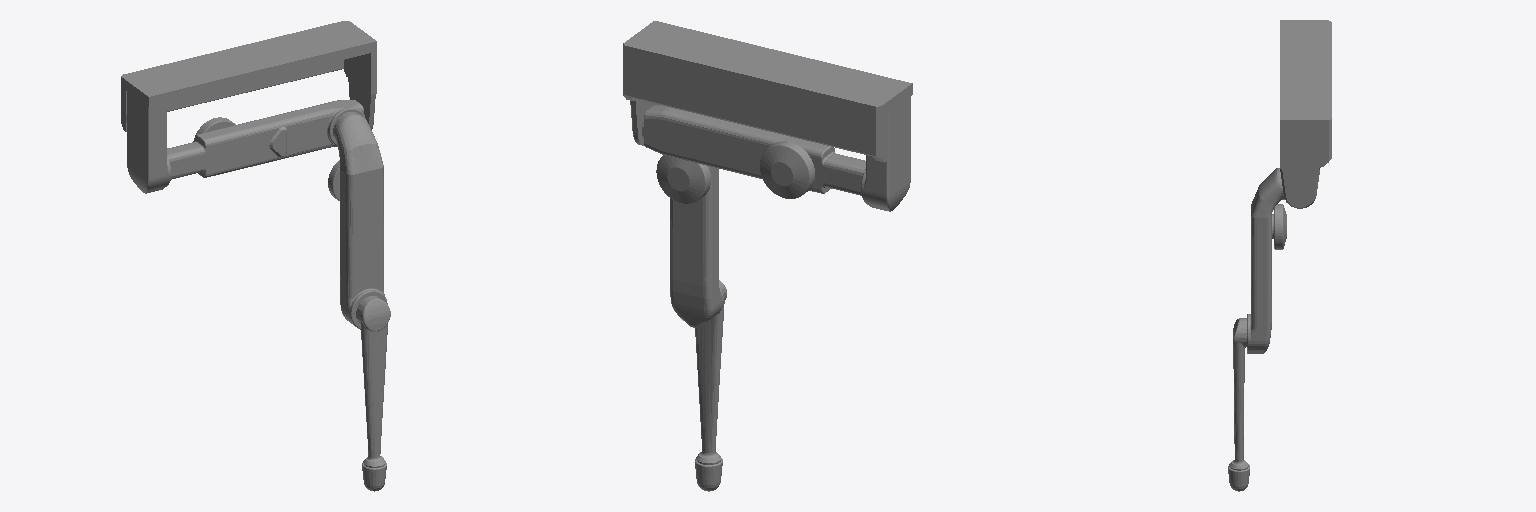
robot.urdf — fingeredu:
<?xml version="1.0" ?>
<!-- =================================================================================== -->
<!-- |    This document was autogenerated by xacro from robot_properties_fingers/xacro/edu/fingeredu.urdf.xacro | -->
<!-- |    EDITING THIS FILE BY HAND IS NOT RECOMMENDED                                 | -->
<!-- =================================================================================== -->
<robot name="fingeredu">
  <!--
    Frames are defined such that they all align with the base frame when all
    joints are at position zero.

    In zero-configuration the origins of all joints are in one line.

    In zero-configuration the origin of the base link is exactly above the
    finger tip which should make it easy to place the finger in the world.
    -->
  <!--
    Frames are defined such that they all align with the base frame when all
    joints are at position zero.

    In zero-configuration the origins of all joints are in one line.
    -->
  <material name="fingeredu_material">
    <color rgba="0.6 0.6 0.6 1.0"/>
  </material>
  <!--
        Fixed links for the finger base (parts where the upper link is mounted).
        -->
  <link name="finger_base_link">
    <visual>
      <origin rpy="0 0 0" xyz="-0.17995 0 0"/>
      <geometry>
        <mesh filename="package://robot_properties_fingers/meshes/edu/base_back.obj" scale="1 1 1"/>
      </geometry>
      <material name="fingeredu_material"/>
    </visual>
    <collision>
      <origin rpy="0 0 0" xyz="-0.17995 0 0"/>
      <geometry>
        <mesh filename="package://robot_properties_fingers/meshes/edu/base_back.obj" scale="1 1 1"/>
      </geometry>
    </collision>
    <visual>
      <origin rpy="0 0 0" xyz="0.025500000000000002 0 0"/>
      <geometry>
        <mesh filename="package://robot_properties_fingers/meshes/edu/base_front.obj" scale="1 1 1"/>
      </geometry>
      <material name="fingeredu_material"/>
    </visual>
    <collision>
      <origin rpy="0 0 0" xyz="0.025500000000000002 0 0"/>
      <geometry>
        <mesh filename="package://robot_properties_fingers/meshes/edu/base_front.obj" scale="1 1 1"/>
      </geometry>
    </collision>
    <visual>
      <origin rpy="0 0 0" xyz="0.025500000000000002 0.02 0.08"/>
      <geometry>
        <mesh filename="package://robot_properties_fingers/meshes/edu/base_side_left.obj" scale="1 1 1"/>
      </geometry>
      <material name="fingeredu_material"/>
    </visual>
    <collision>
      <origin rpy="0 0 0" xyz="0.025500000000000002 0.02 0.08"/>
      <geometry>
        <mesh filename="package://robot_properties_fingers/meshes/edu/base_side_left.obj" scale="1 1 1"/>
      </geometry>
    </collision>
    <!-- Disable this part.  It is not very relevant for collisions but
                 would cause trouble in pybullet due to its concavity.
            <xacro:add_geometry
                rpy="0 0 0"
                xyz="${offset_x_base_to_front} -0.02 ${offset_z_base_to_top}"
                mesh_file="${mesh_dir}/base_side_right.obj"
                material="${material}" />
            -->
    <visual>
      <origin rpy="0 0 0" xyz="0.025500000000000002 0 0.08"/>
      <geometry>
        <mesh filename="package://robot_properties_fingers/meshes/edu/base_top.obj" scale="1 1 1"/>
      </geometry>
      <material name="fingeredu_material"/>
    </visual>
    <collision>
      <origin rpy="0 0 0" xyz="0.025500000000000002 0 0.08"/>
      <geometry>
        <mesh filename="package://robot_properties_fingers/meshes/edu/base_top.obj" scale="1 1 1"/>
      </geometry>
    </collision>
    <inertial>
      <origin rpy="0 0 0" xyz="-0.1 0 0.4"/>
      <mass value="1"/>
      <inertia ixx="0.060833333333333336" ixy="0" ixz="0" iyy="0.05666666666666668" iyz="0" izz="0.010833333333333334"/>
    </inertial>
  </link>
  <!-- The movable links (upper, middle and lower) of the finger. -->
  <!-- FIXME inertias are not correct! -->
  <link name="finger_upper_link">
    <visual>
      <origin rpy="0 0 0" xyz="0.0195 0 0"/>
      <geometry>
        <mesh filename="package://robot_properties_fingers/meshes/edu/upper_link.obj" scale="1 1 1"/>
      </geometry>
      <material name="fingeredu_material"/>
    </visual>
    <collision>
      <origin rpy="0 0 0" xyz="0.0195 0 0"/>
      <geometry>
        <mesh filename="package://robot_properties_fingers/meshes/edu/upper_link.obj" scale="1 1 1"/>
      </geometry>
    </collision>
    <inertial>
      <!-- Note: This uses the values from the middle link, assuming
                     that it is similar enough. -->
      <!-- CoM is only estimated based -->
      <origin rpy="0 0 0" xyz="-0.079 0 0"/>
      <mass value="0.14854"/>
      <inertia ixx="0.00003" ixy="0.00005" ixz="0.00000" iyy="0.00041" iyz="0.00000" izz="0.00041"/>
    </inertial>
  </link>
  <link name="finger_middle_link">
    <visual>
      <origin rpy="0 0 0" xyz="0 0 0"/>
      <geometry>
        <mesh filename="package://robot_properties_fingers/meshes/edu/middle_link.obj" scale="1 1 1"/>
      </geometry>
      <material name="fingeredu_material"/>
    </visual>
    <collision>
      <origin rpy="0 0 0" xyz="0 0 0"/>
      <geometry>
        <mesh filename="package://robot_properties_fingers/meshes/edu/middle_link.obj" scale="1 1 1"/>
      </geometry>
    </collision>
    <inertial>
      <origin rpy="0 0 0" xyz="0 -0.019 -0.079"/>
      <mass value="0.14854"/>
      <inertia ixx="0.00041" ixy="0.00000" ixz="0.00000" iyy="0.00041" iyz="0.00005" izz="0.00003"/>
    </inertial>
  </link>
  <link name="finger_lower_link">
    <visual>
      <origin rpy="0 0 0" xyz="0 0 0"/>
      <geometry>
        <mesh filename="package://robot_properties_fingers/meshes/edu/lower_link.obj" scale="1 1 1"/>
      </geometry>
      <material name="fingeredu_material"/>
    </visual>
    <collision>
      <origin rpy="0 0 0" xyz="0 0 0"/>
      <geometry>
        <mesh filename="package://robot_properties_fingers/meshes/edu/lower_link.obj" scale="1 1 1"/>
      </geometry>
    </collision>
    <!-- TODO: these are the interial values from the Solo lower leg
                 link which is similar but not exactly the same to the FingerEdu
                 lower link. -->
    <inertial>
      <origin rpy="0 0 0" xyz="0 -0.009 -0.089"/>
      <mass value="0.03070"/>
      <inertia ixx="0.00012" ixy="0.00000" ixz="0.00000" iyy="0.00012" iyz="0.00000" izz="0.00000"/>
    </inertial>
  </link>
  <!-- fixed link for finger tip -->
  <link name="finger_tip_link">
    <inertial>
      <origin rpy="0 0 0" xyz="0 0 0"/>
      <mass value="0.01"/>
      <inertia ixx="1.6666666666666668e-07" ixy="0" ixz="0" iyy="1.6666666666666668e-07" iyz="0" izz="1.6666666666666668e-07"/>
    </inertial>
  </link>
  <joint name="finger_lower_to_tip_joint" type="fixed">
    <parent link="finger_lower_link"/>
    <child link="finger_tip_link"/>
    <origin xyz="0 -0.008 -0.16"/>
  </joint>
  <!-- kinematics -->
  <joint name="finger_base_to_upper_joint" type="revolute">
    <parent link="finger_base_link"/>
    <child link="finger_upper_link"/>
    <limit effort="1000" lower="-1.5707963267948966" upper="1.5707963267948966" velocity="1000"/>
    <axis xyz="-1 0 0"/>
    <origin rpy="0 0 0" xyz="0 0 0"/>
  </joint>
  <joint name="finger_upper_to_middle_joint" type="revolute">
    <parent link="finger_upper_link"/>
    <child link="finger_middle_link"/>
    <limit effort="1000" lower="-1.5707963267948966" upper="1.5707963267948966" velocity="1000"/>
    <axis xyz="0 1 0"/>
    <origin rpy="0 0 0" xyz="0 -0.014 0"/>
  </joint>
  <joint name="finger_middle_to_lower_joint" type="revolute">
    <parent link="finger_middle_link"/>
    <child link="finger_lower_link"/>
    <limit effort="1000" lower="-3.141592653589793" upper="3.141592653589793" velocity="1000"/>
    <axis xyz="0 1 0"/>
    <origin rpy="0 0 0" xyz="0 -0.03745 -0.16"/>
  </joint>
  <!--
    Define the global base link and place the finger relative to it.
    -->
  <link name="base_link">
    <inertial>
      <origin rpy="0 0 0" xyz="0 0 0"/>
      <mass value="1"/>
      <inertia ixx="4.166666666666667e-06" ixy="0" ixz="0" iyy="4.166666666666667e-06" iyz="0" izz="4.166666666666667e-06"/>
    </inertial>
  </link>
  <joint name="base_to_finger" type="fixed">
    <parent link="base_link"/>
    <child link="finger_base_link"/>
    <origin xyz="0 0 0.283"/>
  </joint>
</robot>

--- Facts derived from the render (not from the file) ---
Views: 3 orthographic renders of the robot side by side, from view 1: azimuth 30°, elevation 25°; view 2: azimuth 150°, elevation 25°; view 3: azimuth 270°, elevation 25°.
Model fingeredu with 6 links and 5 joints (3 revolute, 2 fixed), rooted at base_link, posed all joints at 0.
Visible links, largest first — view 1: finger_base_link, finger_middle_link, finger_upper_link, finger_lower_link; view 2: finger_base_link, finger_upper_link, finger_middle_link, finger_lower_link; view 3: finger_base_link, finger_middle_link, finger_lower_link.
Boxes of the visible links, bbox=[...] form: finger_base_link: bbox=[121, 21, 376, 193]; finger_middle_link: bbox=[328, 112, 387, 329]; finger_upper_link: bbox=[167, 100, 365, 179]; finger_lower_link: bbox=[356, 296, 390, 491]; finger_base_link: bbox=[623, 21, 912, 211]; finger_upper_link: bbox=[642, 105, 865, 198]; finger_middle_link: bbox=[656, 155, 723, 327]; finger_lower_link: bbox=[695, 280, 726, 491]; finger_base_link: bbox=[1280, 20, 1331, 208]; finger_middle_link: bbox=[1247, 168, 1286, 353]; finger_lower_link: bbox=[1228, 318, 1249, 491].
Size in the robot's own frame: 0.2295 by 0.1013 by 0.4095 metres.
7 mesh visuals loaded from 7 distinct referenced files (7 OBJ).